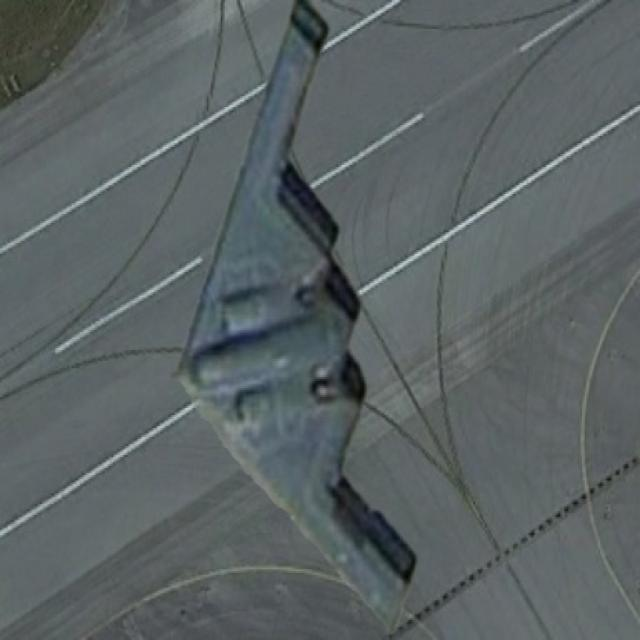B-2_TopDown: (170, 0, 423, 618)
